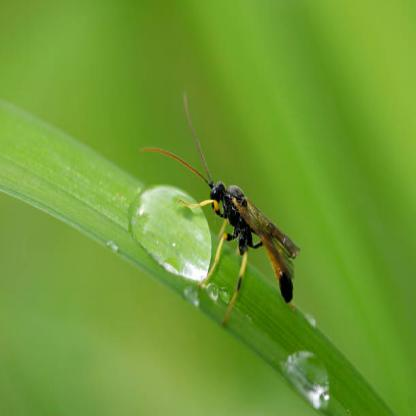sawfly: (155, 98, 304, 330)
